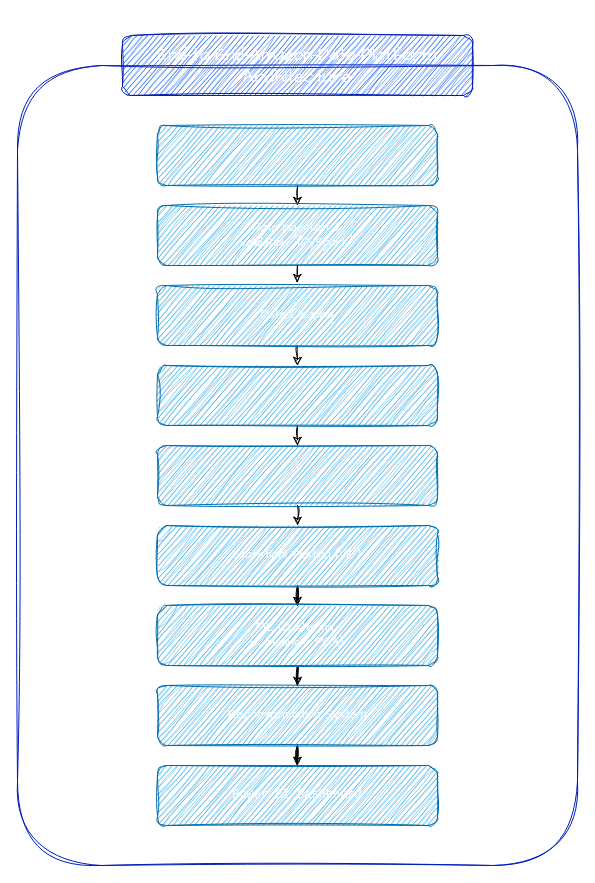
Some shapes in this 595 by 883 pixel diagram are drawn without their labels. Here are the shapes that lost their labels. From the top down, the centre of each, then its label:
the point at 297,155: Amazon Sales Dataset
the point at 297,395: Exploratory Data Analysis (EDA)
the point at 297,475: Feature Engineering
